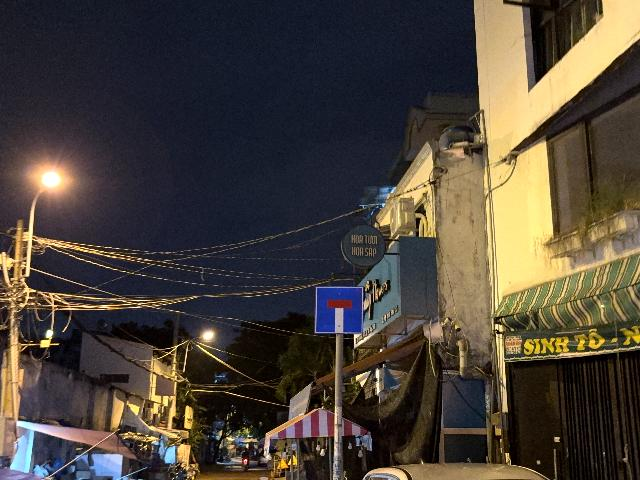duong-cut: (316, 286, 363, 333)
